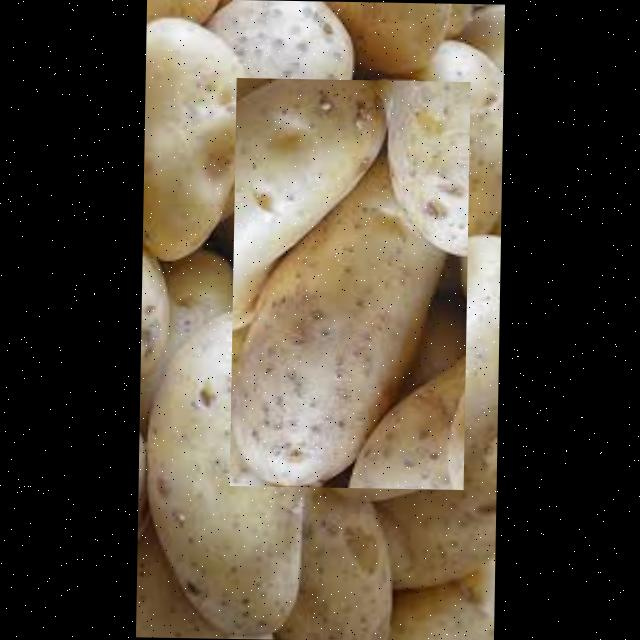Diseased-fungal potato: (229, 76, 470, 488), (140, 307, 317, 640)
